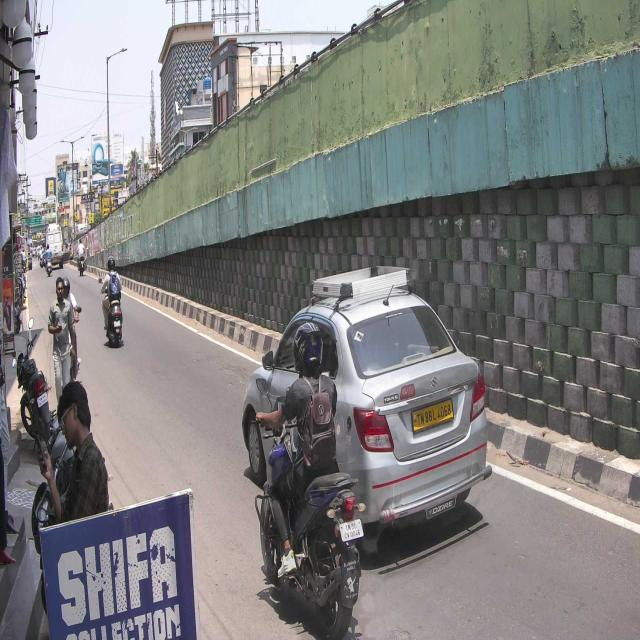single_rider: (253, 320, 366, 640)
